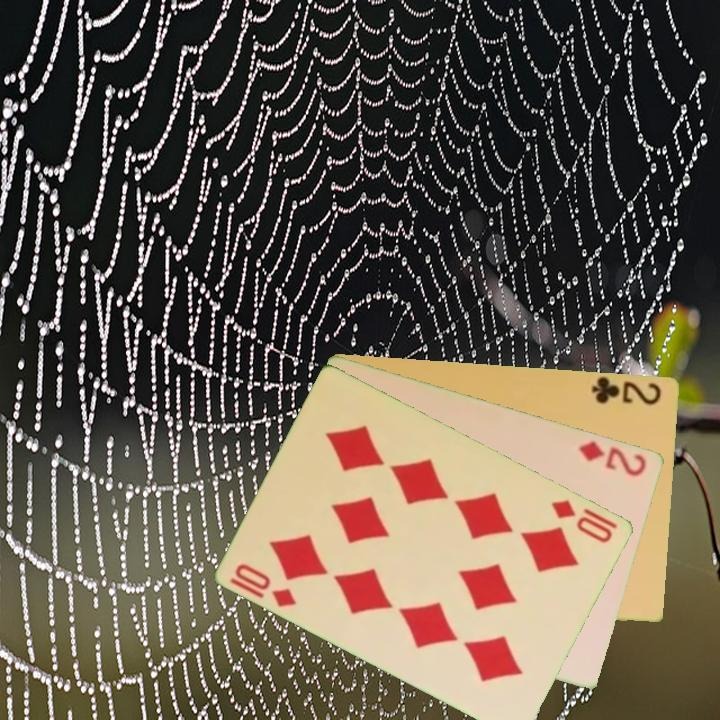10d: (548, 495, 621, 546), (227, 559, 300, 610)
2c: (588, 374, 665, 407)
2d: (576, 437, 650, 479)
